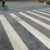zebra: (1, 9, 50, 50)
